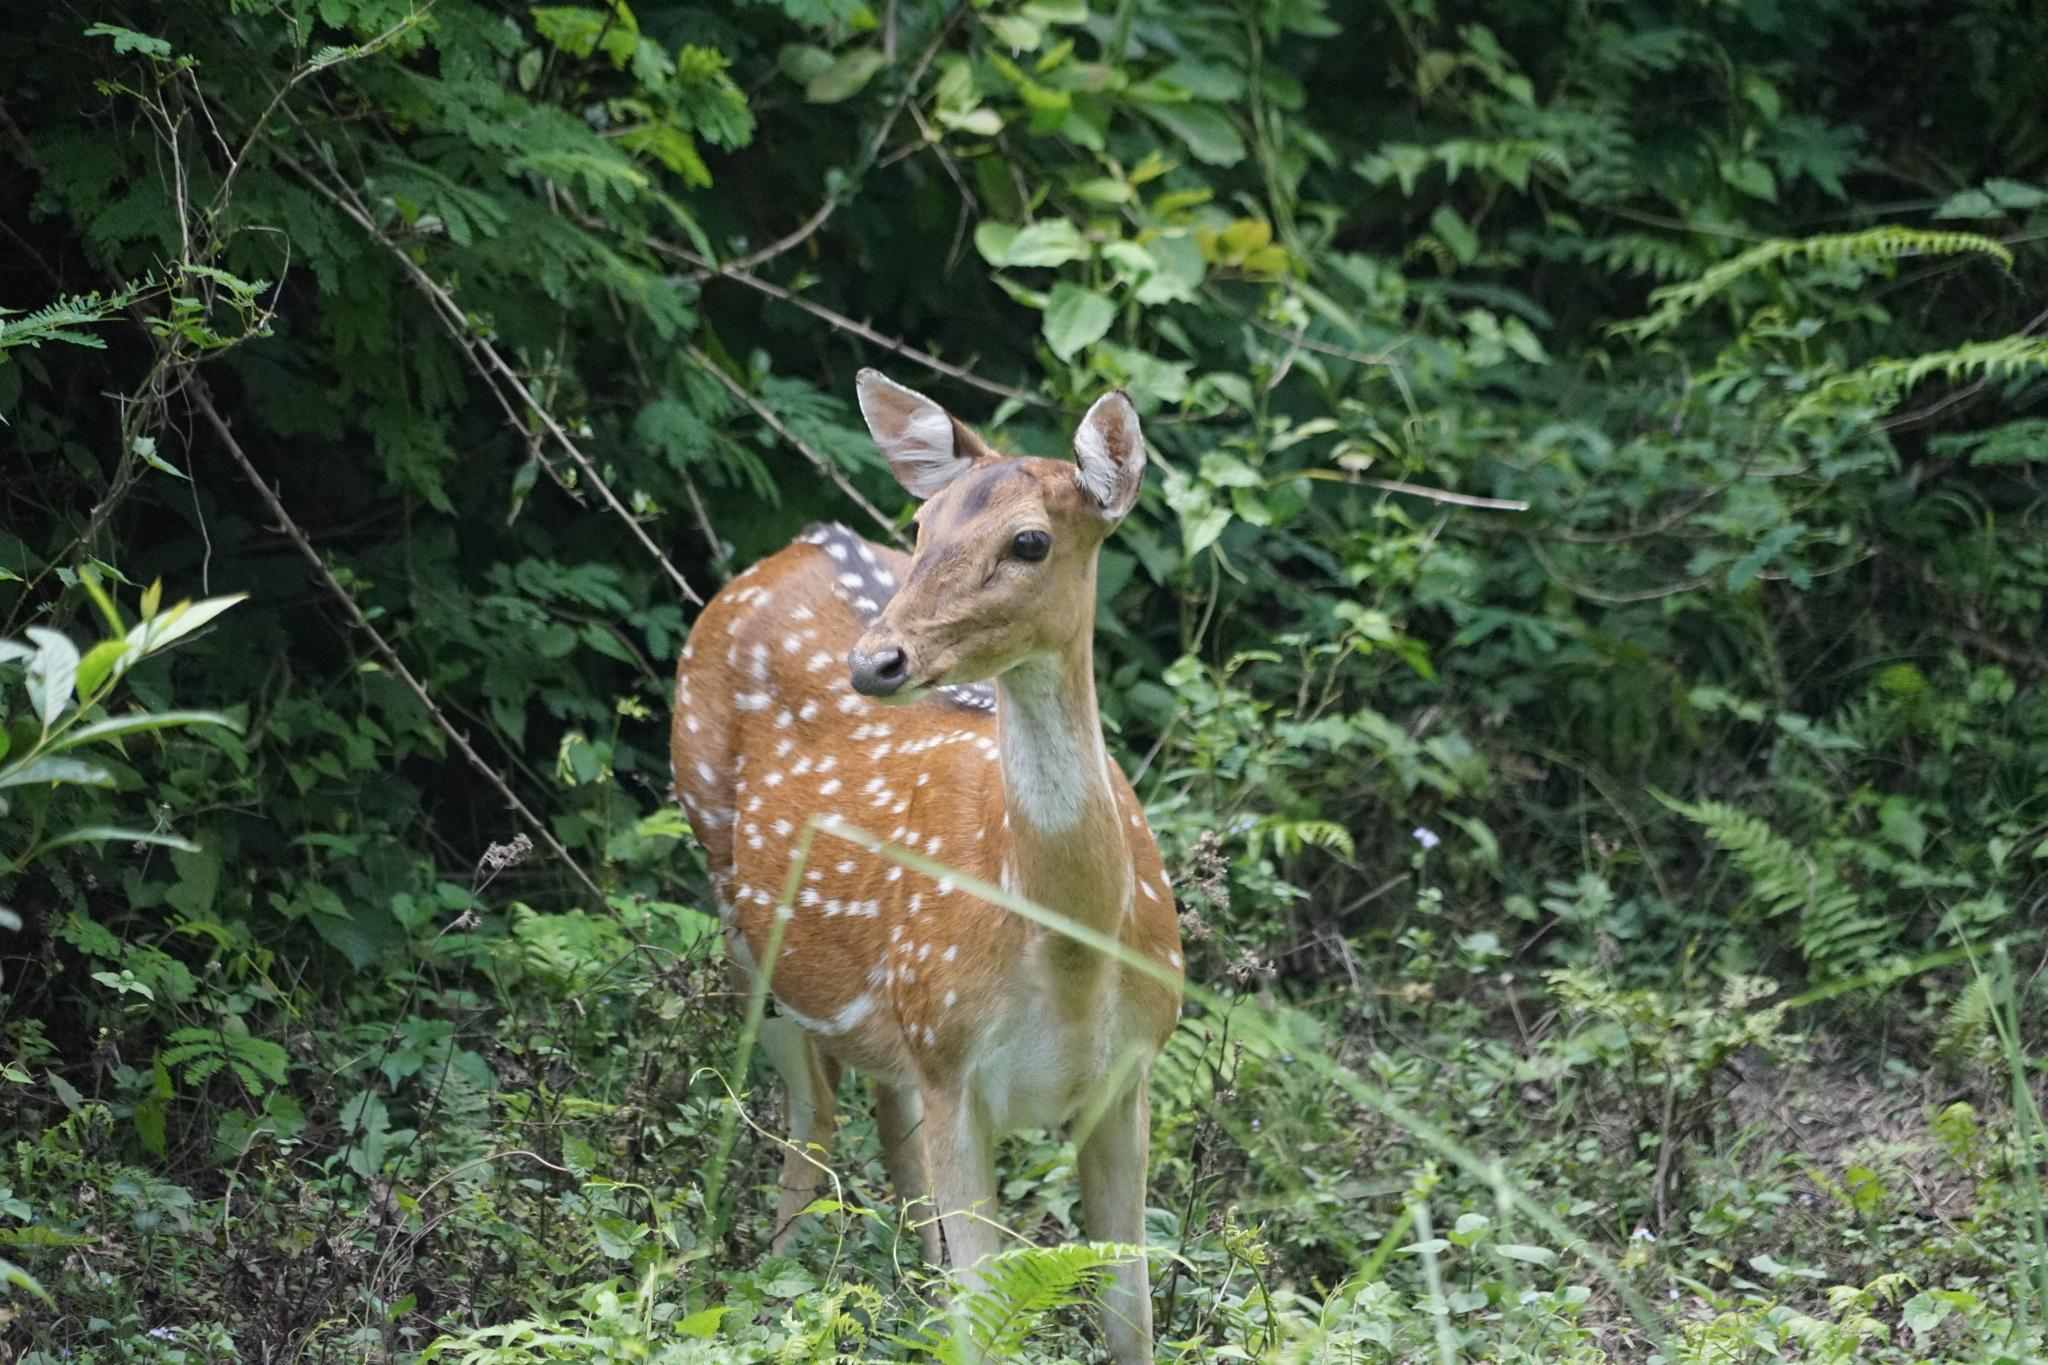Deer: (672, 369, 1183, 1284)
